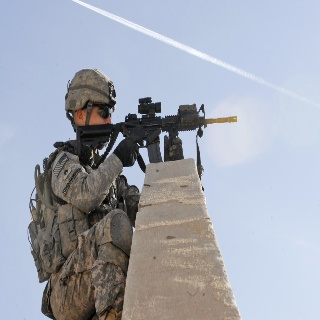rifle: (76, 97, 239, 171)
